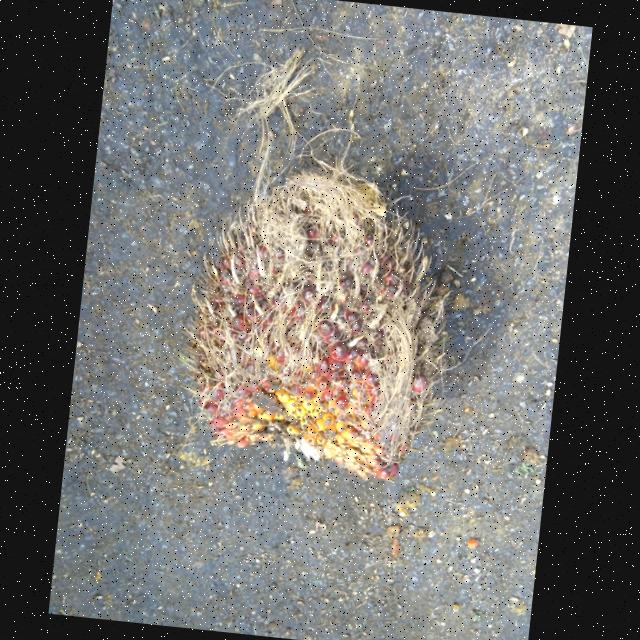Ripe: (187, 175, 429, 474)
